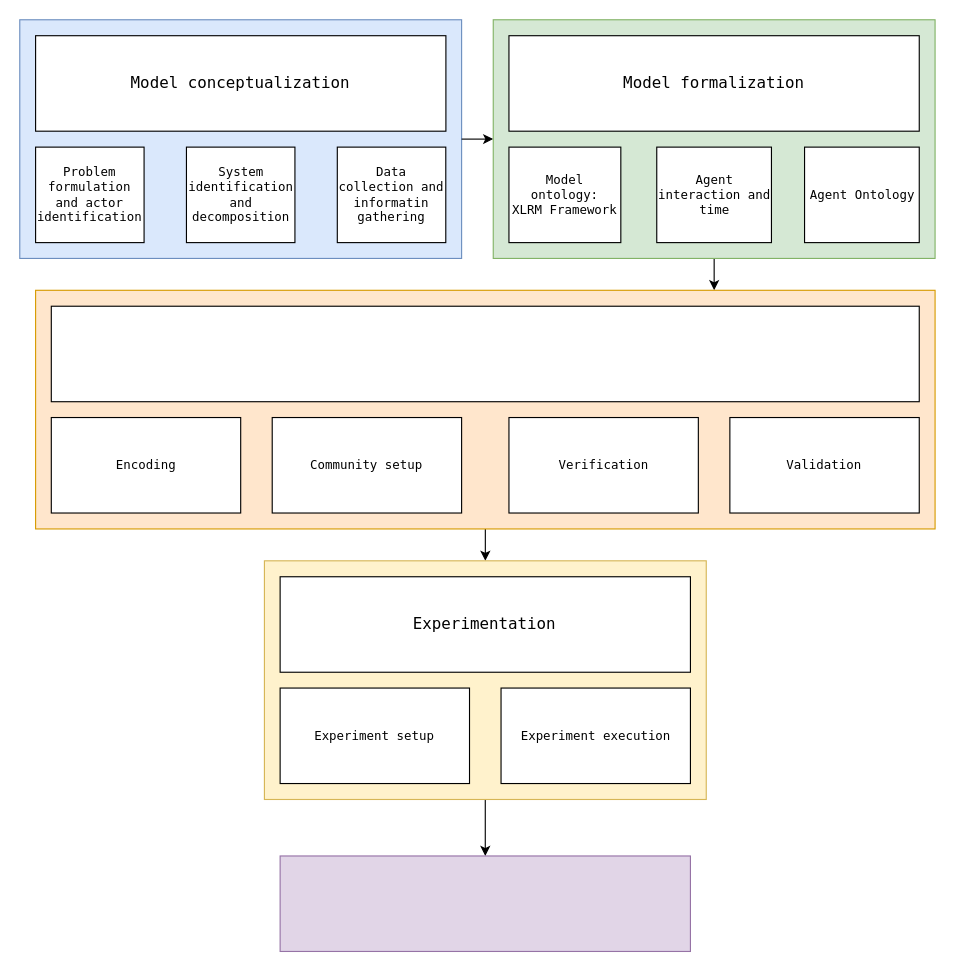
The diagram is 955 pixels wide and 972 high, and some of its shapes have lost their labels. The shapes that lost their labels are listed below. From the top down, each one's box as (x1, y1, x2, y2) in pixels, then its label:
(50, 305, 919, 402): Model implementation
(279, 855, 690, 951): Result analysis
